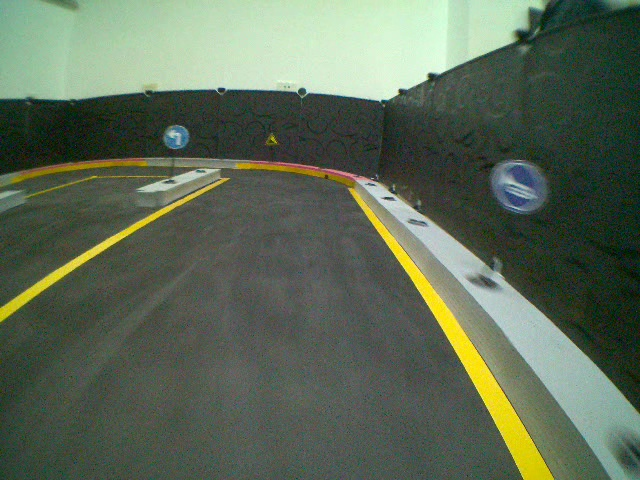fast: (266, 132, 280, 146)
horn: (490, 159, 549, 216)
turn: (164, 123, 191, 151)
